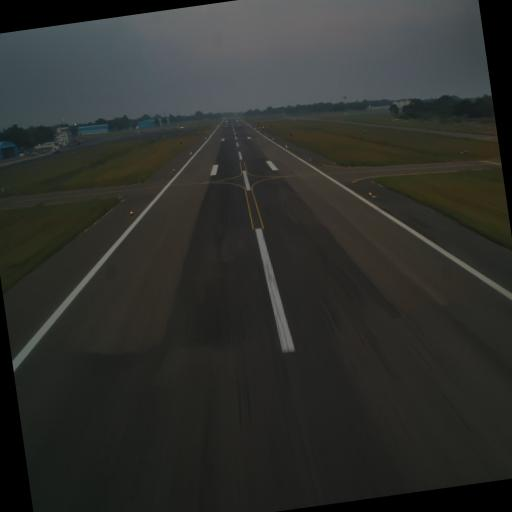on: (368, 189, 373, 197), (128, 210, 134, 216), (172, 167, 177, 174), (308, 157, 312, 162)
